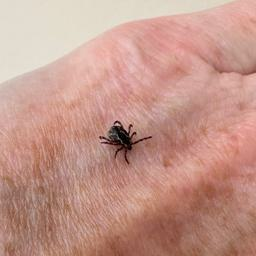Dermacentor variabilis: (99, 119, 152, 164)
